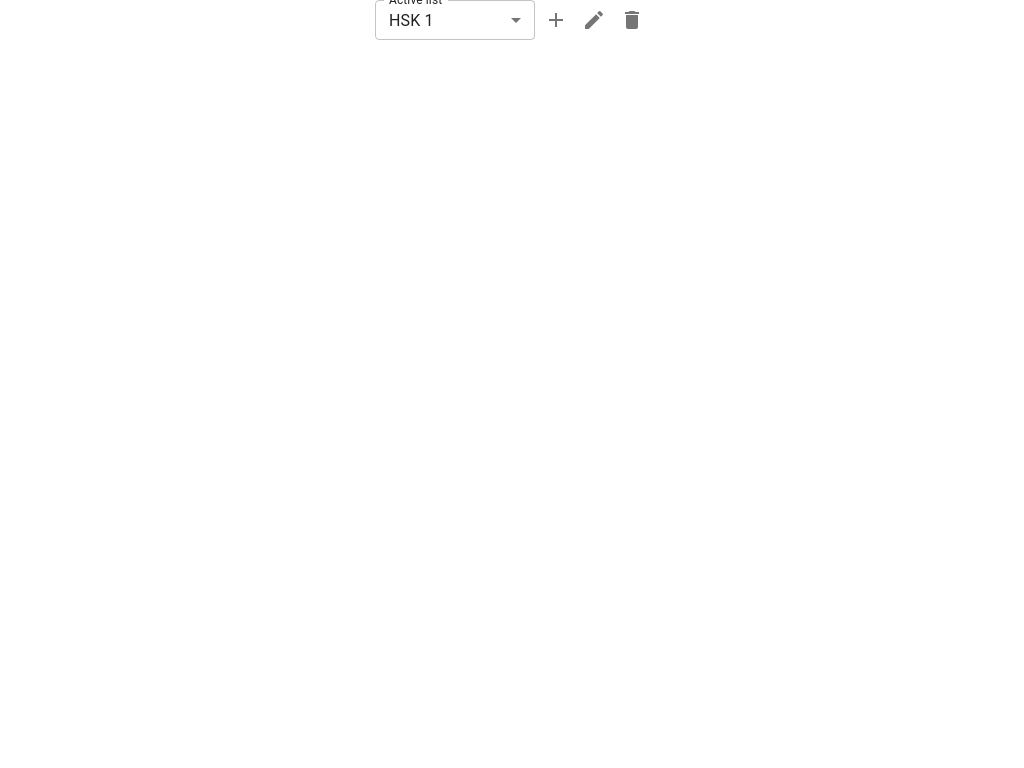
Test: ListSelector › rename list dialog › opens the rename dialog with the current list name pre-filled
Click the button named "Rename list" at point(594, 20), box [577,3,611,37]
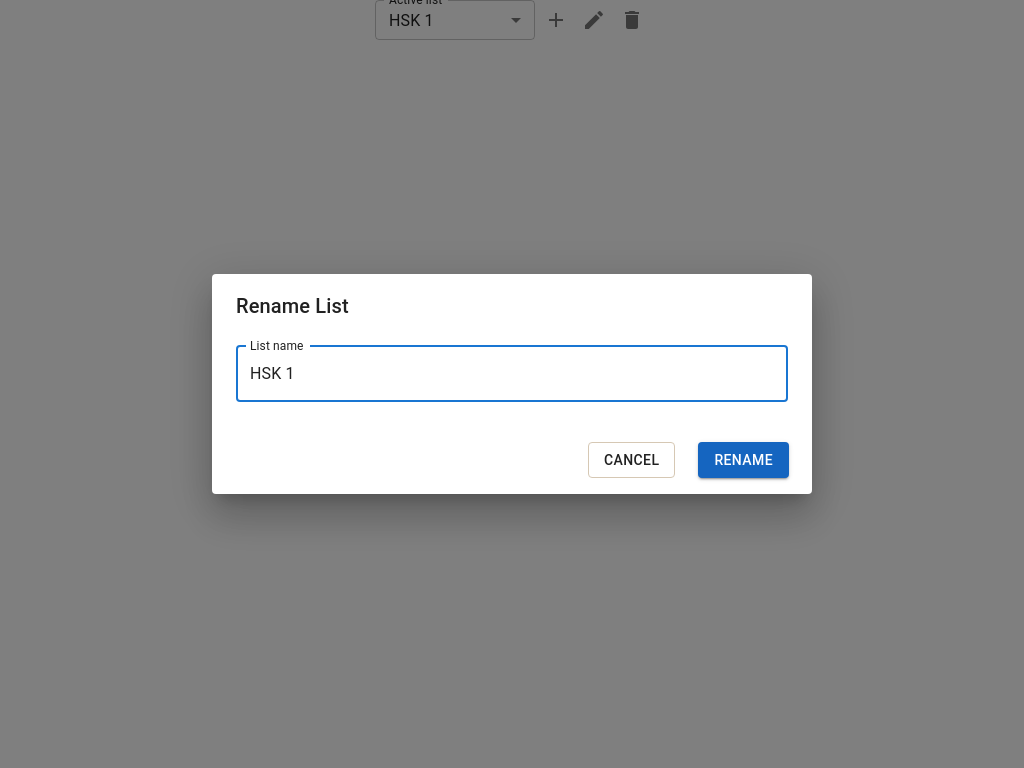
Expected: the dialog "Rename List List name Cancel Rename" is shown, [212,274,812,494]
Expected: the field labelled "List name" holds "HSK 1", [236,346,788,402]
